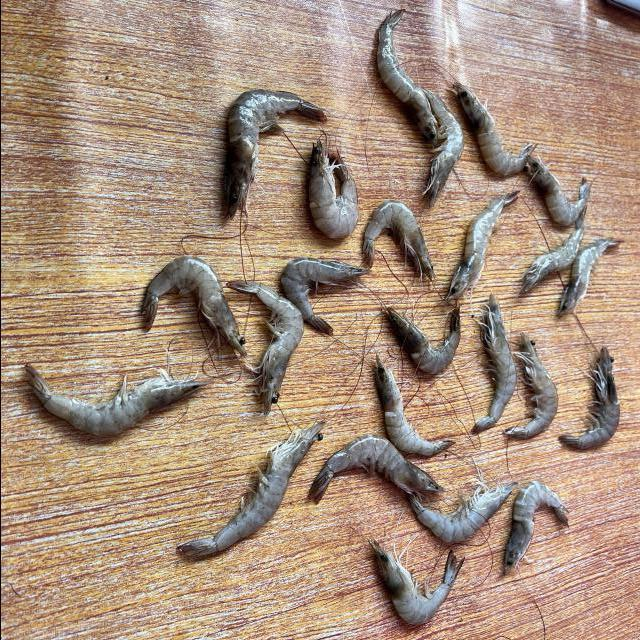shrimp: (177, 422, 324, 558), (224, 88, 325, 220), (24, 365, 209, 437), (140, 255, 245, 356), (226, 281, 302, 415), (308, 435, 443, 505), (376, 9, 437, 146), (445, 190, 519, 302), (369, 540, 463, 626), (375, 357, 454, 457), (408, 473, 518, 544), (453, 82, 535, 175), (280, 257, 370, 336), (559, 347, 620, 450), (472, 294, 516, 434), (361, 199, 435, 281), (504, 482, 568, 576), (504, 333, 558, 439), (421, 88, 464, 207), (558, 238, 620, 318), (308, 140, 358, 238), (387, 308, 460, 375), (526, 155, 590, 226), (521, 221, 584, 292)
